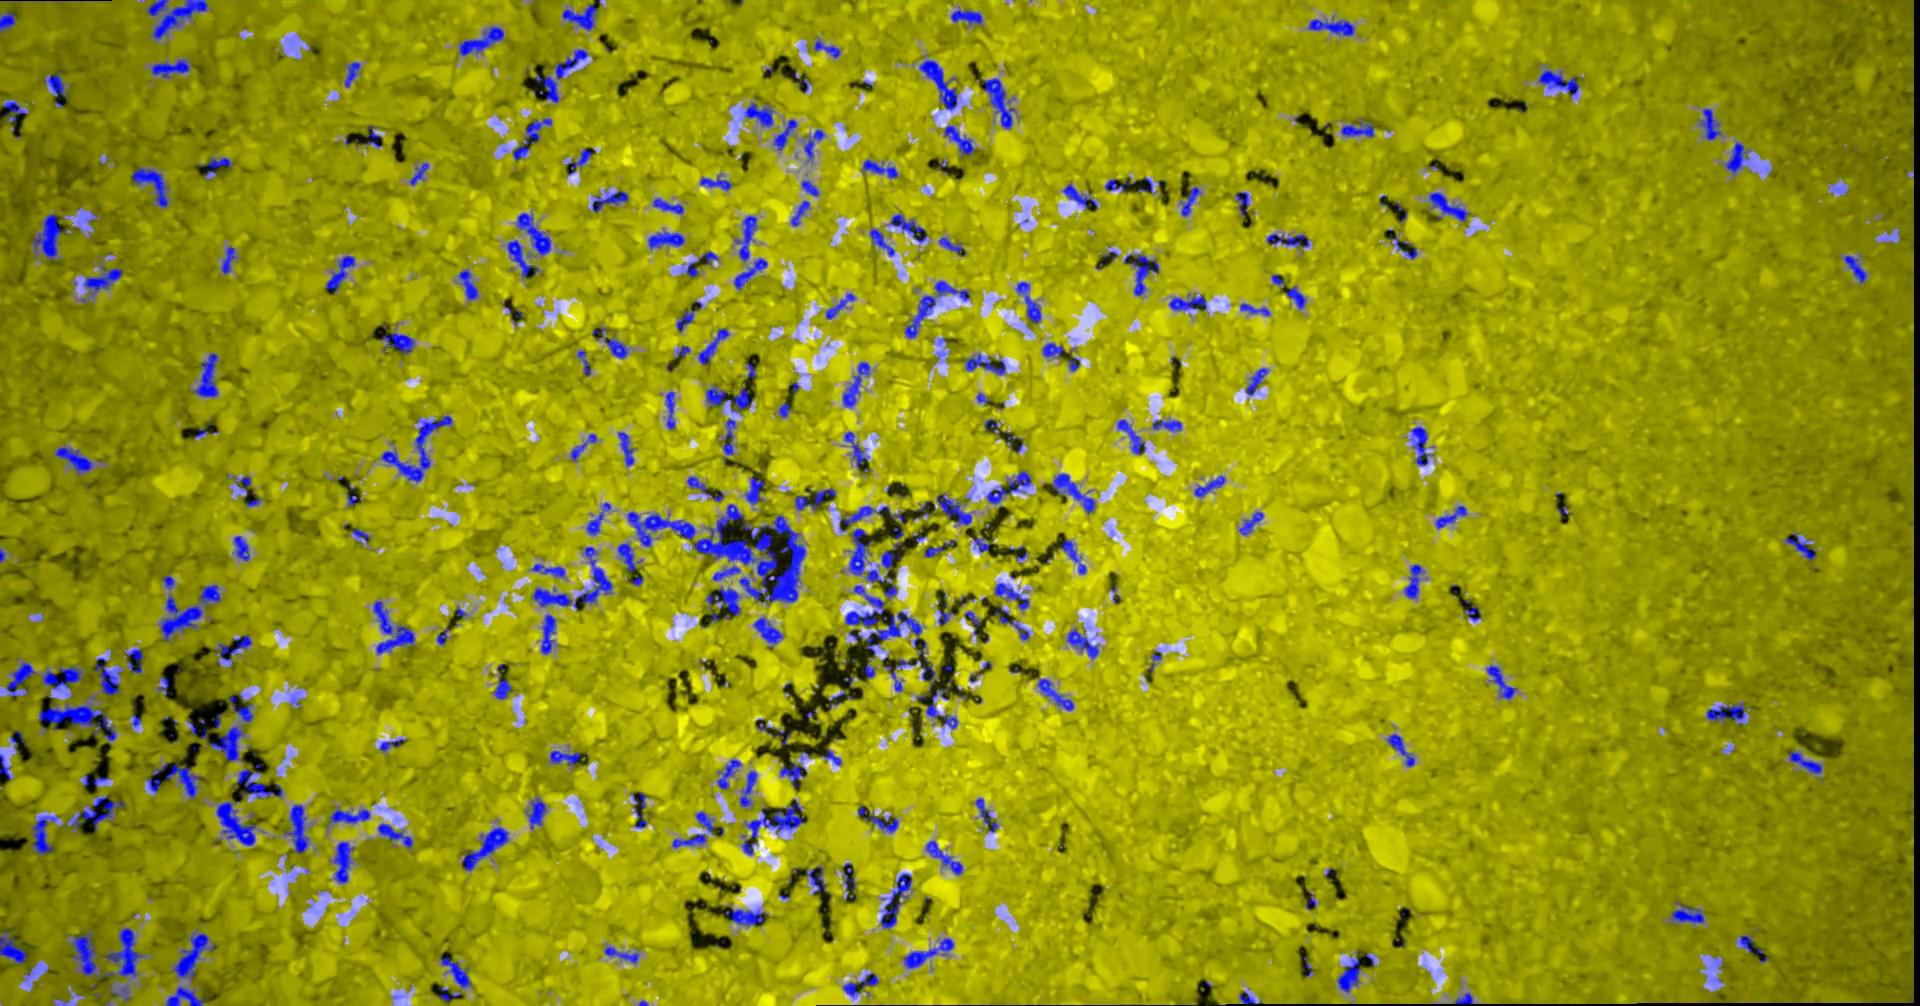ant: (532, 546, 611, 608), (381, 415, 451, 481), (904, 279, 969, 337), (742, 798, 804, 854), (850, 611, 921, 657), (532, 48, 587, 102), (626, 511, 695, 546), (147, 0, 207, 39), (372, 600, 414, 654), (866, 542, 904, 598), (157, 594, 202, 641), (461, 826, 508, 870), (173, 931, 215, 979), (146, 761, 199, 798), (67, 795, 124, 829), (977, 77, 1015, 128), (919, 58, 956, 111), (1051, 473, 1095, 513), (880, 873, 910, 929), (216, 801, 255, 845), (232, 763, 282, 798), (30, 213, 66, 260), (512, 118, 551, 160), (924, 678, 957, 728), (844, 586, 884, 626), (985, 471, 1030, 507), (903, 937, 952, 968), (131, 166, 168, 207), (1123, 253, 1158, 295), (516, 213, 550, 254), (924, 840, 963, 874), (458, 25, 503, 55), (505, 239, 538, 277), (283, 804, 309, 854), (842, 361, 869, 406), (705, 385, 750, 412), (210, 725, 244, 761), (839, 506, 889, 530), (706, 588, 740, 622), (993, 606, 1029, 639), (215, 634, 251, 666), (914, 640, 938, 688), (192, 352, 217, 398), (1429, 192, 1468, 221), (1538, 69, 1578, 97), (1271, 274, 1305, 307), (592, 326, 627, 358), (936, 493, 971, 525), (1037, 678, 1073, 710), (889, 213, 927, 243), (325, 255, 354, 293), (848, 528, 872, 574), (83, 265, 122, 293), (439, 951, 470, 987), (698, 328, 728, 365), (1015, 281, 1040, 323), (733, 258, 767, 288), (94, 657, 121, 695), (30, 815, 57, 854), (1065, 627, 1098, 658), (857, 807, 897, 832), (734, 215, 756, 260), (55, 446, 91, 473), (1337, 951, 1361, 992), (884, 658, 913, 691), (1486, 666, 1515, 699), (1385, 733, 1415, 766), (1117, 419, 1145, 453), (6, 662, 34, 696), (41, 666, 83, 688), (331, 841, 354, 883), (1062, 183, 1097, 210), (943, 124, 974, 155), (563, 3, 596, 30), (994, 582, 1029, 608), (794, 488, 836, 509), (1410, 426, 1432, 465), (753, 617, 782, 648), (843, 431, 867, 467), (0, 929, 25, 963), (1784, 532, 1815, 560), (1307, 18, 1354, 36), (1060, 539, 1084, 573), (377, 823, 411, 847), (1705, 702, 1743, 724), (965, 353, 1004, 373), (725, 904, 764, 925), (1788, 749, 1821, 774), (1738, 935, 1768, 962), (150, 58, 190, 77), (1724, 141, 1749, 173), (585, 502, 610, 533), (165, 986, 204, 1005), (566, 149, 596, 174), (869, 227, 894, 257), (716, 760, 742, 789), (1670, 902, 1704, 923), (592, 191, 627, 211), (380, 332, 413, 353), (975, 798, 997, 831), (778, 761, 805, 788), (43, 70, 67, 99), (744, 102, 773, 126), (825, 293, 855, 318), (773, 119, 796, 150), (1435, 506, 1465, 528), (1192, 475, 1224, 497), (570, 433, 596, 460), (617, 542, 641, 570), (524, 796, 545, 829), (803, 130, 824, 160), (1244, 367, 1267, 395), (229, 694, 251, 721), (328, 808, 370, 823), (493, 663, 510, 699), (199, 158, 232, 177), (1168, 293, 1206, 310), (540, 614, 555, 654), (862, 159, 897, 177), (1843, 255, 1865, 282), (1404, 564, 1422, 598), (648, 231, 684, 248), (739, 770, 756, 807), (1266, 232, 1309, 246), (1389, 236, 1417, 258), (1700, 108, 1719, 138), (1180, 185, 1199, 216), (1238, 511, 1263, 533), (924, 539, 955, 558), (458, 269, 477, 298), (1340, 119, 1373, 136), (604, 946, 637, 963), (676, 305, 696, 332), (617, 431, 632, 466), (805, 866, 825, 893), (745, 476, 764, 504), (950, 9, 982, 25), (651, 197, 683, 213), (790, 199, 809, 226), (938, 236, 965, 255), (698, 174, 731, 189), (632, 791, 646, 827), (670, 833, 706, 847), (549, 749, 580, 765), (813, 39, 839, 57), (842, 862, 855, 899), (3, 102, 25, 122), (531, 563, 564, 577), (687, 476, 711, 495), (124, 648, 143, 672), (723, 418, 735, 453), (1103, 177, 1135, 191), (409, 163, 428, 185), (344, 61, 361, 86), (232, 535, 249, 560), (199, 584, 220, 605), (712, 565, 739, 580), (695, 810, 712, 833), (964, 611, 979, 636), (827, 688, 844, 710), (185, 720, 207, 738), (364, 124, 381, 147), (1239, 304, 1269, 316), (221, 246, 234, 274), (937, 602, 952, 625), (1236, 191, 1248, 217), (665, 391, 674, 429), (378, 738, 405, 751), (820, 748, 841, 765), (1152, 419, 1181, 431), (438, 986, 460, 1001), (83, 774, 108, 786), (577, 351, 590, 373), (858, 972, 877, 988), (1043, 342, 1063, 357), (984, 419, 1004, 434), (0, 11, 15, 30), (350, 527, 370, 542), (1464, 605, 1481, 621), (971, 536, 989, 551), (110, 986, 130, 1000), (1239, 991, 1258, 1005), (0, 753, 10, 779), (801, 180, 818, 196), (156, 676, 169, 695), (10, 730, 23, 749), (1453, 992, 1472, 1005), (436, 627, 450, 644), (842, 982, 858, 996), (700, 251, 717, 264), (686, 259, 698, 277), (236, 476, 250, 490), (676, 345, 690, 358), (163, 574, 174, 589), (1068, 357, 1079, 371), (778, 401, 789, 417), (863, 663, 874, 677)
